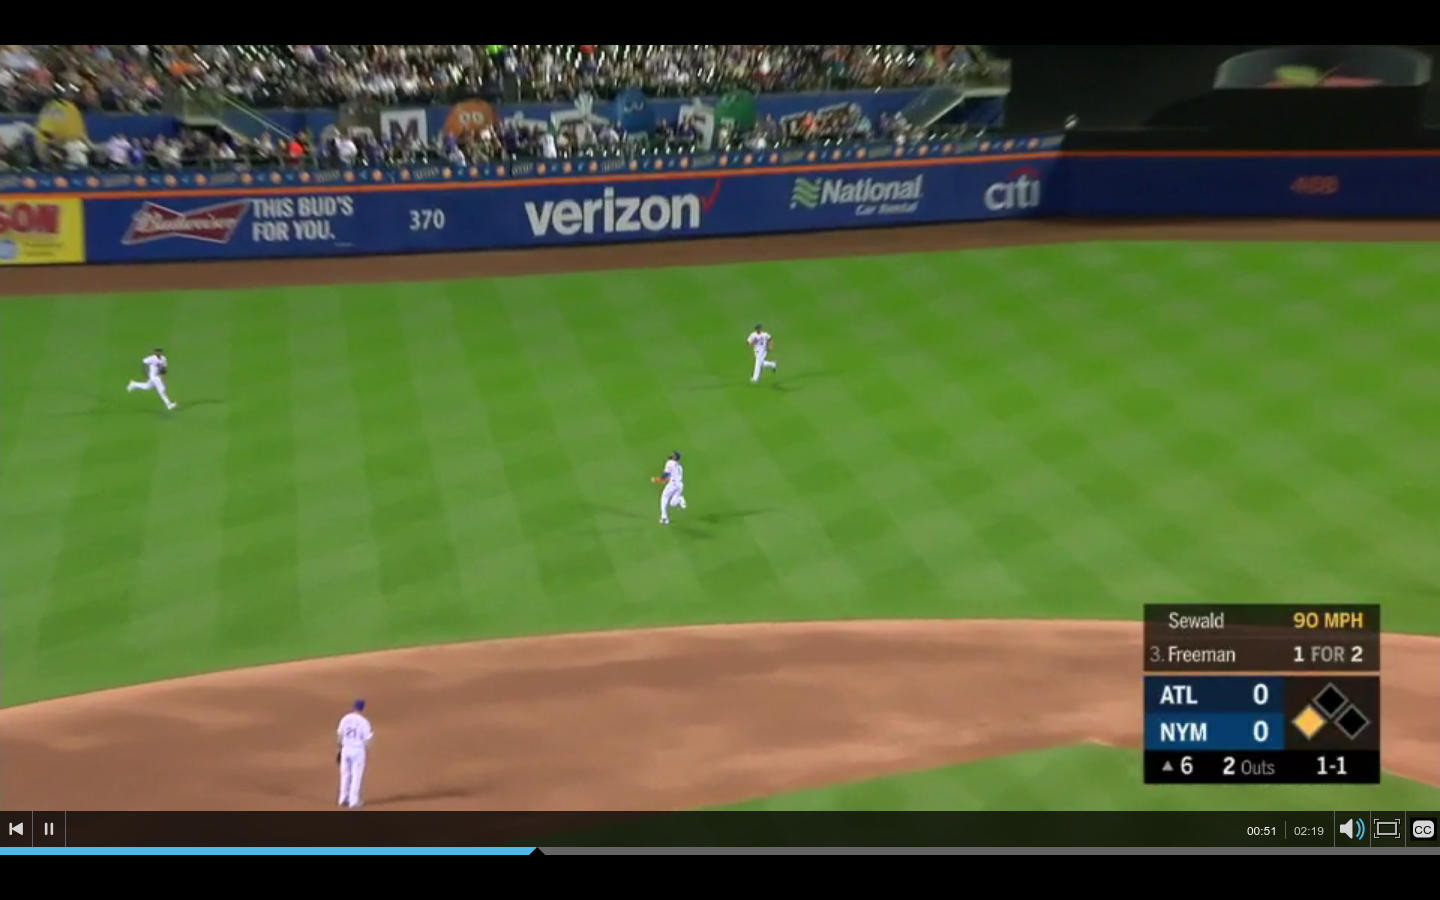baseball player: (328, 694, 381, 811), (122, 346, 182, 419), (645, 446, 695, 529), (739, 323, 781, 388)
